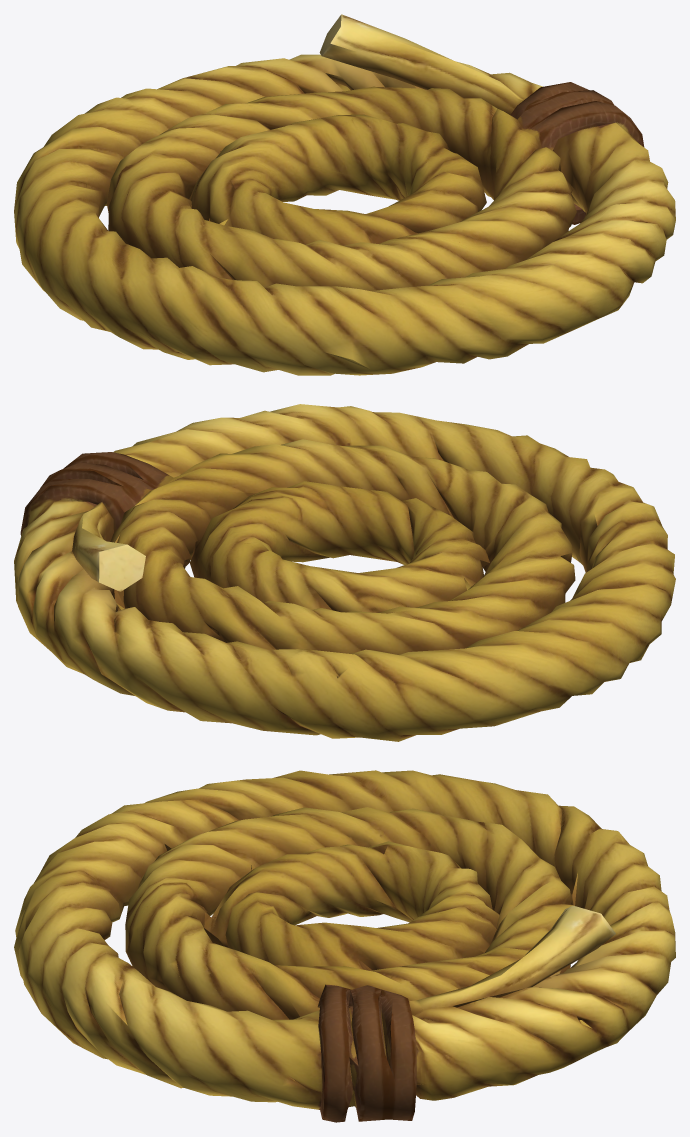
The model's file is rope_coil.glb.
The picture shows the model from 3 angles, top to bottom: view 1: azimuth 30°, elevation 25°; view 2: azimuth 150°, elevation 25°; view 3: azimuth 270°, elevation 25°; orthographic projection. The views are drawn at different scales.
Parts seen in each view (by area): view 1: world; view 2: world; view 3: world.
Part boxes in pixels (left/top/right/bottom): world: left=14, top=14, right=675, bottom=375; world: left=14, top=404, right=675, bottom=741; world: left=14, top=770, right=675, bottom=1122.
Size of the model in its own units: 0.9996 by 0.2303 by 0.9596.
1 material, 1 textured.
